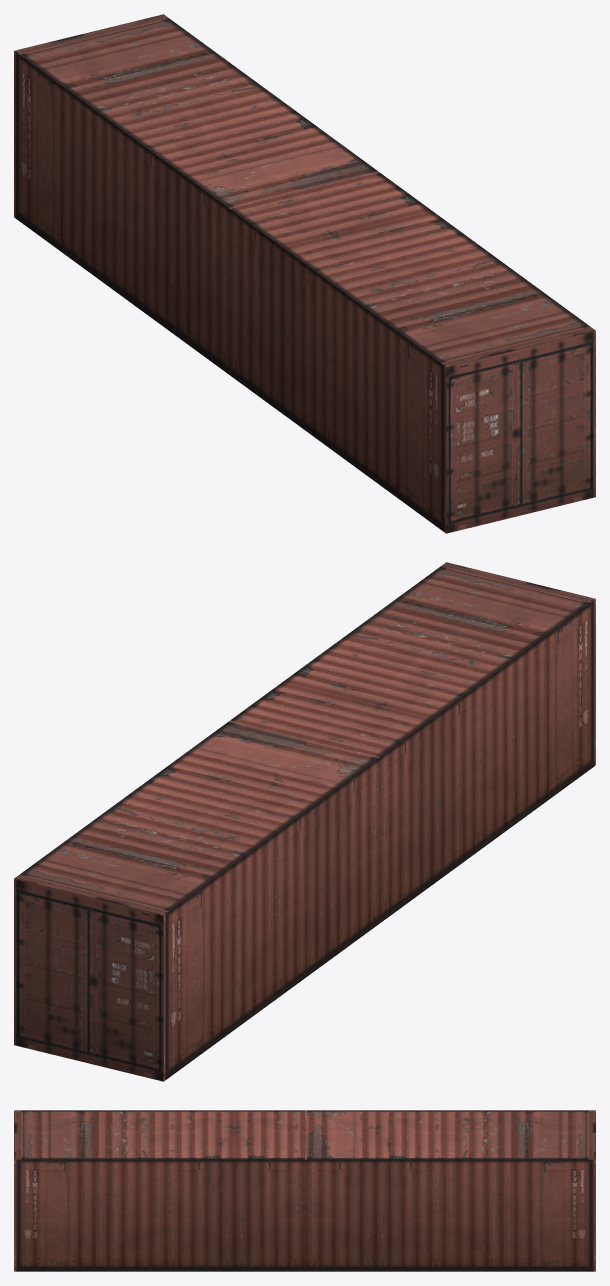
The model's file is sm_jizhuangxiang_b.fbx.
3 views of the same model, one above another, from view 1: azimuth 30°, elevation 25°; view 2: azimuth 150°, elevation 25°; view 3: azimuth 270°, elevation 25° (orthographic). The views are drawn at different scales.
Visible parts, largest first — view 1: sm_jizhuangxiang_b; view 2: sm_jizhuangxiang_b; view 3: sm_jizhuangxiang_b.
Part boxes in pixels (x1=…): sm_jizhuangxiang_b: x1=14, y1=14, x2=595, y2=533; sm_jizhuangxiang_b: x1=14, y1=562, x2=595, y2=1081; sm_jizhuangxiang_b: x1=14, y1=1110, x2=595, y2=1271.
Bounding box in the file's own units: 2.44 × 2.59 × 12.19.
Materials: 1 (1 with a texture image).
